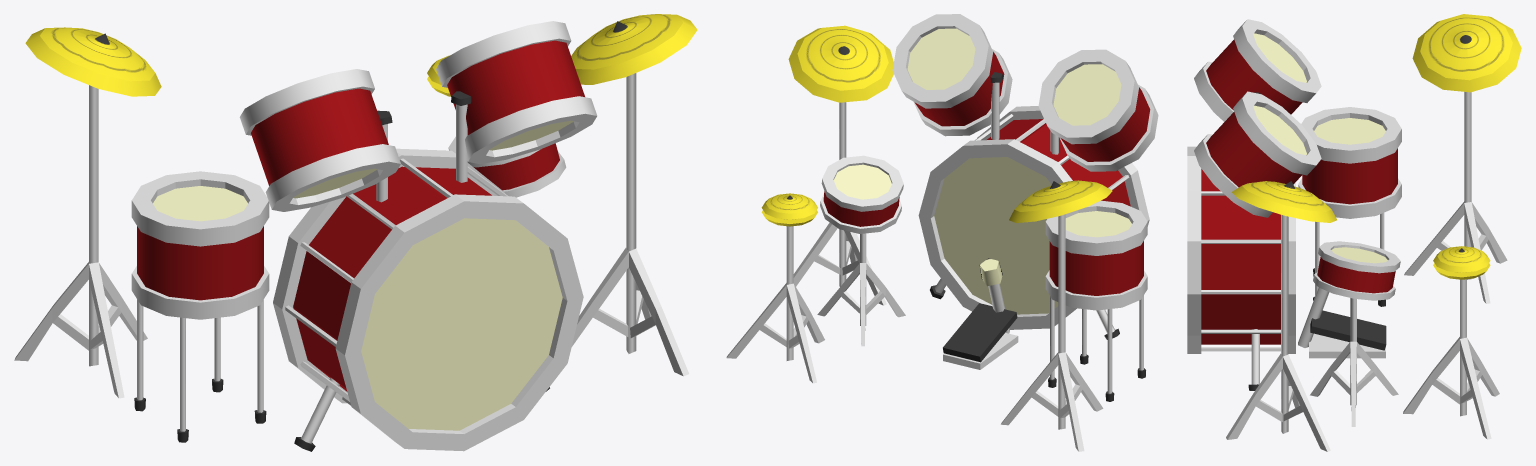
The model's file is DrumKit.FBX.
The picture shows the model from 3 angles, left to right: view 1: azimuth 30°, elevation 25°; view 2: azimuth 150°, elevation 25°; view 3: azimuth 270°, elevation 25°; orthographic projection. The views are drawn at different scales.
Parts seen in each view (by area): view 1: Cylinder, Cylinder014, Cylinder013; view 2: Cylinder, Cylinder013, Cylinder014, Cylinder001; view 3: Cylinder, Cylinder014, Cylinder013, Cylinder001, Cylinder012.
Boxes of the visible parts, bbox=[...] form: Cylinder: bbox=[14, 21, 688, 451]; Cylinder014: bbox=[25, 27, 161, 96]; Cylinder013: bbox=[571, 14, 697, 84]; Cylinder: bbox=[726, 14, 1158, 451]; Cylinder013: bbox=[788, 25, 893, 102]; Cylinder014: bbox=[1009, 180, 1112, 222]; Cylinder001: bbox=[761, 193, 817, 219]; Cylinder: bbox=[1187, 19, 1507, 451]; Cylinder014: bbox=[1412, 14, 1521, 92]; Cylinder013: bbox=[1231, 181, 1336, 222]; Cylinder001: bbox=[1433, 246, 1490, 272]; Cylinder012: bbox=[1433, 263, 1490, 279].
Bounding box in the file's own units: 32.63 × 22.17 × 23.43.
